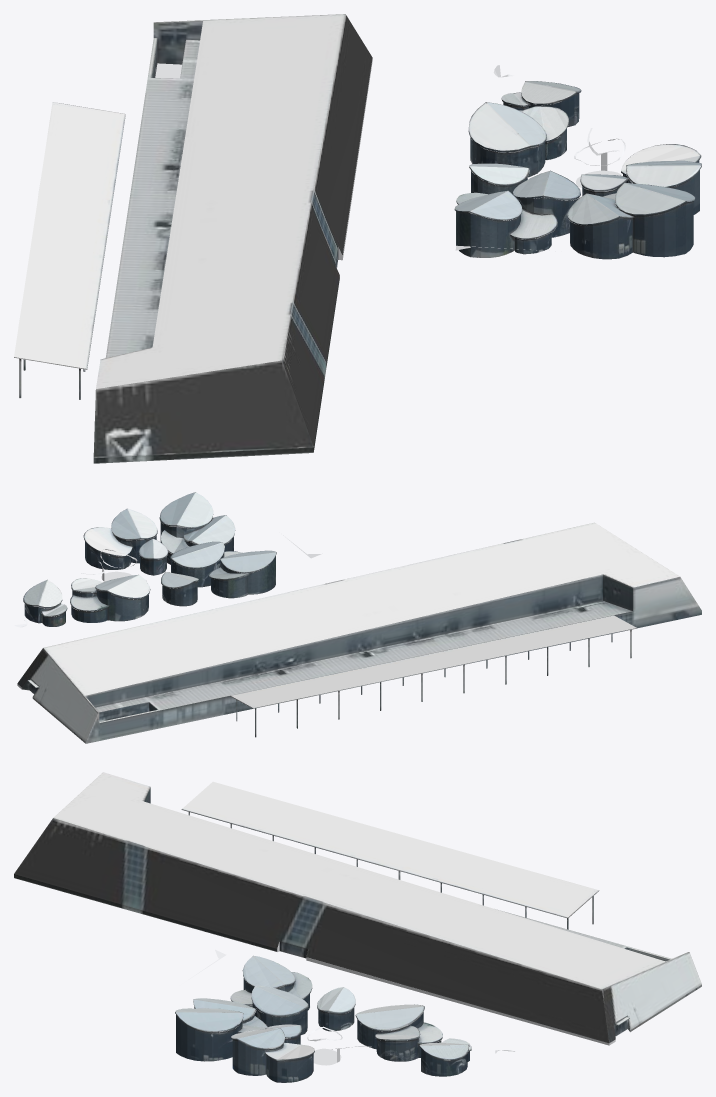
3 views of the same model, one above another, from view 1: azimuth 30°, elevation 25°; view 2: azimuth 150°, elevation 25°; view 3: azimuth 270°, elevation 25° (orthographic). The views are drawn at different scales.
Parts seen in each view (by area): view 1: Buildings_建物パビリオン; view 2: Buildings_建物パビリオン; view 3: Buildings_建物パビリオン.
Part boxes in pixels (x1=…): Buildings_建物パビリオン: x1=14, y1=14, x2=701, y2=463; Buildings_建物パビリオン: x1=14, y1=492, x2=701, y2=743; Buildings_建物パビリオン: x1=14, y1=772, x2=701, y2=1082.
Size of the model in its own units: 129 by 12.82 by 136.
9 materials, 8 textured.
